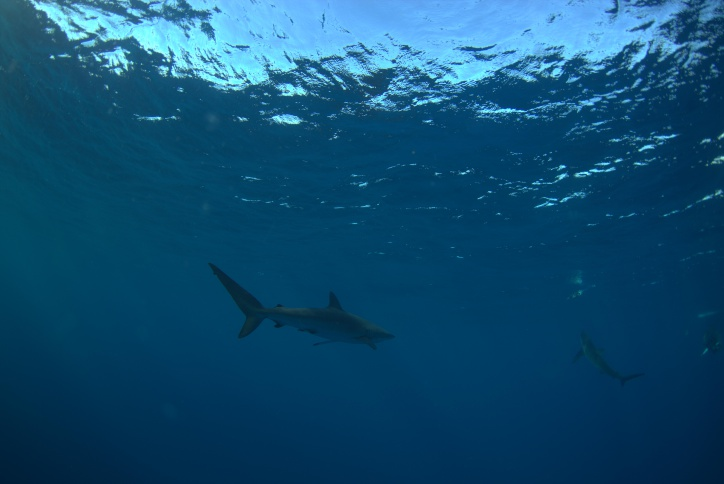Sedoso: (180, 249, 405, 372)
